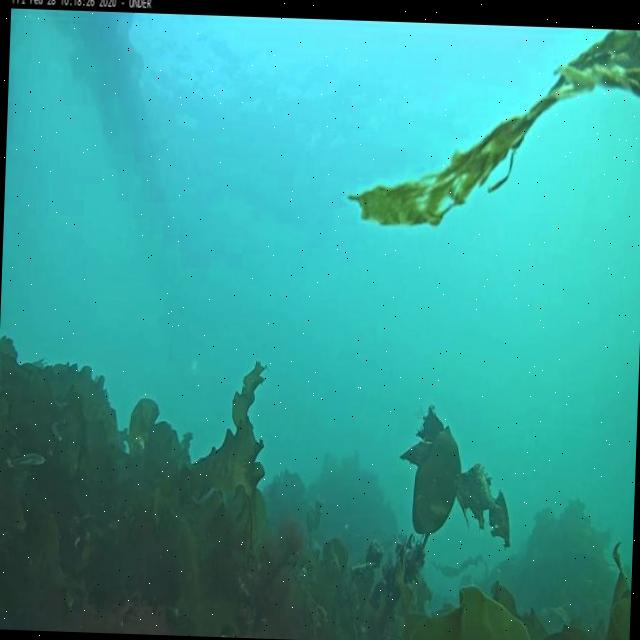fish: (8, 451, 44, 466)
